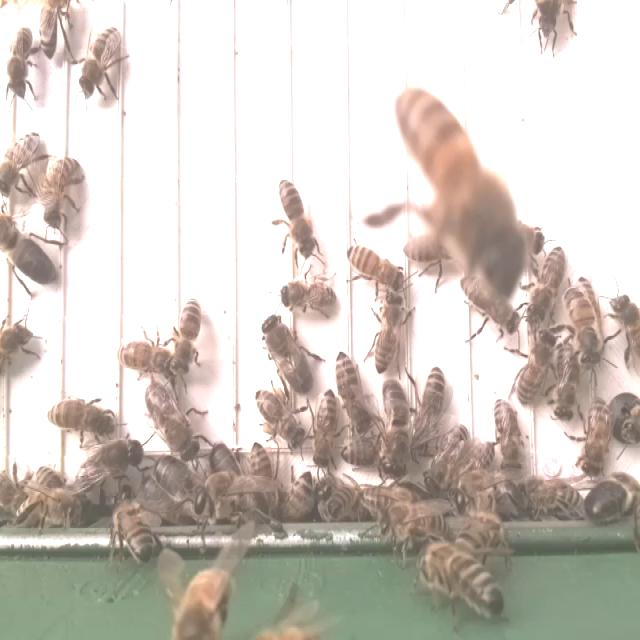Drone: (258, 308, 316, 397), (142, 378, 203, 460), (152, 449, 211, 522), (74, 434, 144, 495), (0, 214, 56, 289), (380, 372, 414, 483), (579, 475, 640, 527)
Worker: (253, 383, 309, 450), (526, 243, 567, 330), (425, 422, 473, 494), (80, 26, 126, 100), (277, 175, 316, 261), (43, 393, 117, 438), (373, 292, 410, 378), (565, 286, 602, 371), (514, 331, 557, 404), (578, 392, 612, 482), (40, 152, 80, 228), (494, 394, 532, 474), (413, 363, 447, 452), (334, 347, 370, 431), (0, 127, 42, 198), (170, 294, 204, 378), (343, 242, 405, 287), (116, 335, 182, 376), (552, 340, 583, 426), (5, 23, 36, 102), (313, 390, 343, 471), (278, 276, 338, 315)
